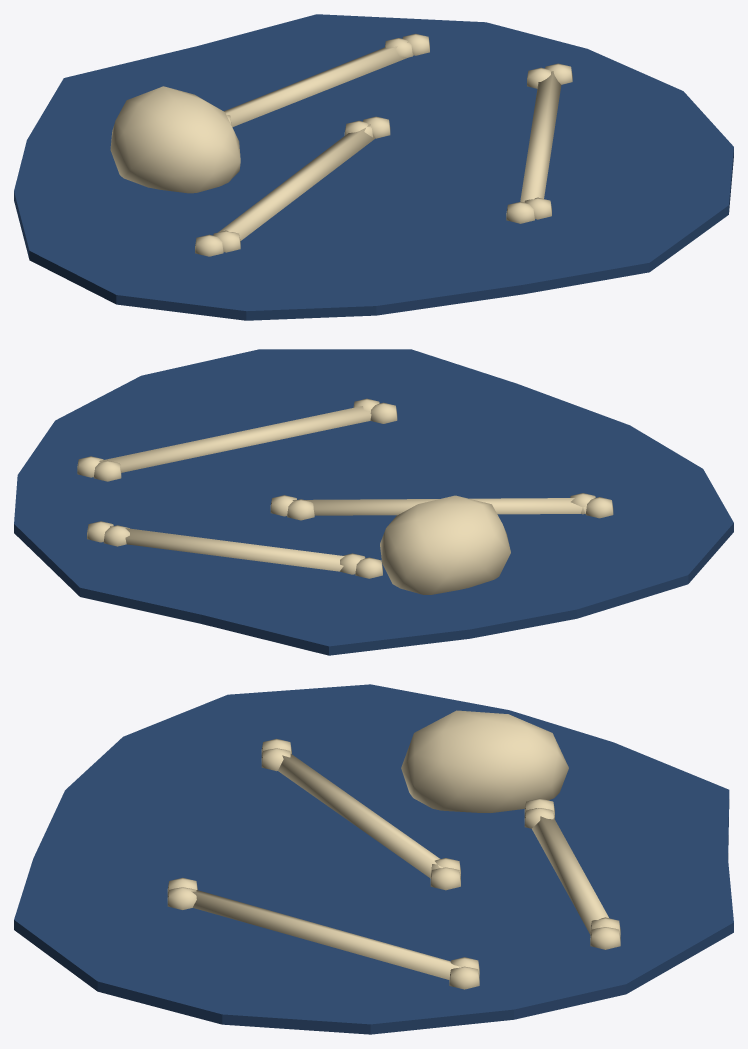
The model's file is bones_water.glb.
The picture shows the model from 3 angles, top to bottom: view 1: azimuth 30°, elevation 25°; view 2: azimuth 150°, elevation 25°; view 3: azimuth 270°, elevation 25°; orthographic projection. The views are drawn at different scales.
Parts seen in each view (by area): view 1: bones_water; view 2: bones_water; view 3: bones_water.
Part boxes in pixels (x1,y1,x2,y2): bones_water: (14, 14, 733, 320); bones_water: (14, 349, 733, 655); bones_water: (14, 684, 733, 1034).
Size of the model in its own units: 0.8565 by 0.1155 by 0.7664.
